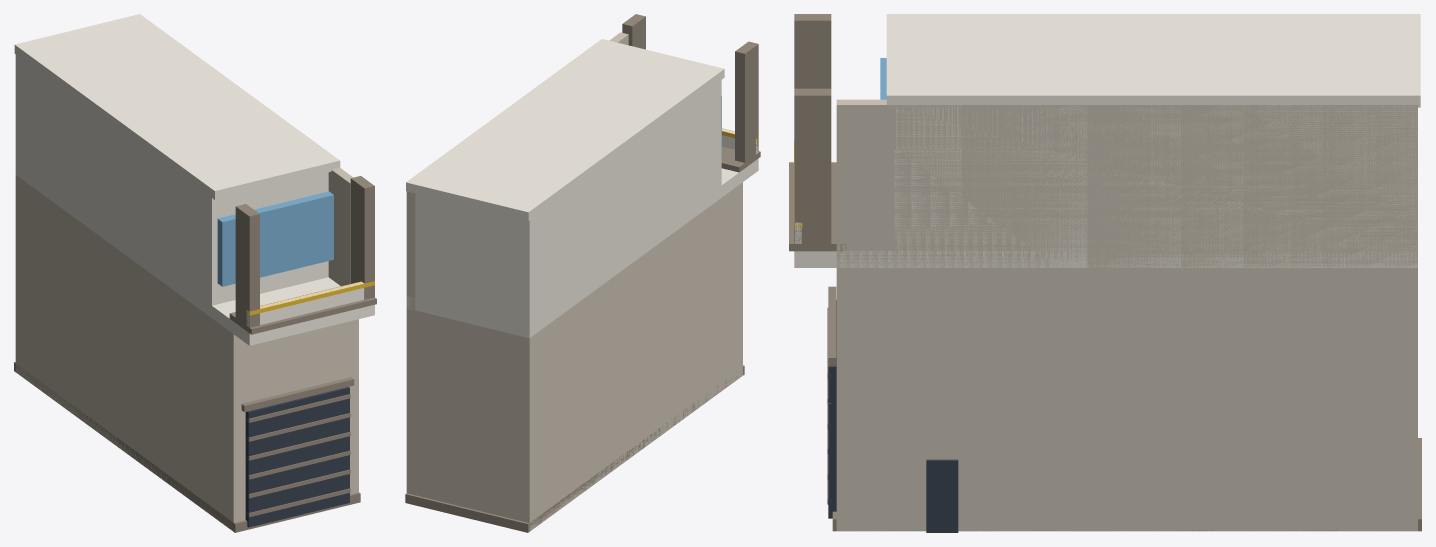
File: pitClubHead.glb
3 renders of one model, left to right at view 1: azimuth 30°, elevation 25°; view 2: azimuth 150°, elevation 25°; view 3: azimuth 270°, elevation 25°, orthographic. The views are drawn at different scales.
Visible parts, largest first — view 1: pitClubHead_white, pitClubHead_concrete, pitClubHead_concreteDark, pitClubHead_steelDark, pitClubHead_glass, pitClubHead_yellow; view 2: pitClubHead_concrete, pitClubHead_white, pitClubHead_concreteDark; view 3: pitClubHead_concrete, pitClubHead_white, pitClubHead_concreteDark, pitClubHead_steelDark.
Boxes of the visible parts, x1,y1,x2,y2 form: pitClubHead_white: (14,14,374,345); pitClubHead_concrete: (15,168,358,530); pitClubHead_concreteDark: (14,176,376,532); pitClubHead_steelDark: (245,387,349,527); pitClubHead_glass: (217,191,333,286); pitClubHead_yellow: (246,281,374,315); pitClubHead_concrete: (406,32,742,531); pitClubHead_white: (406,39,758,338); pitClubHead_concreteDark: (405,14,760,532); pitClubHead_concrete: (836,99,1417,531); pitClubHead_white: (794,14,1420,267); pitClubHead_concreteDark: (789,14,1421,531); pitClubHead_steelDark: (828,300,958,532).
Size of the model in its own units: 7.44 by 18.2 by 23.95.
